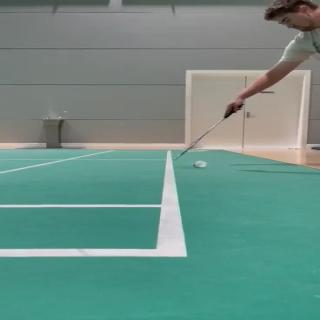Shuttle: (192, 160, 207, 168)
